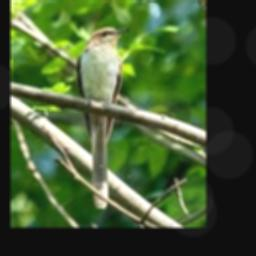Cuckoo: (76, 27, 131, 205)
